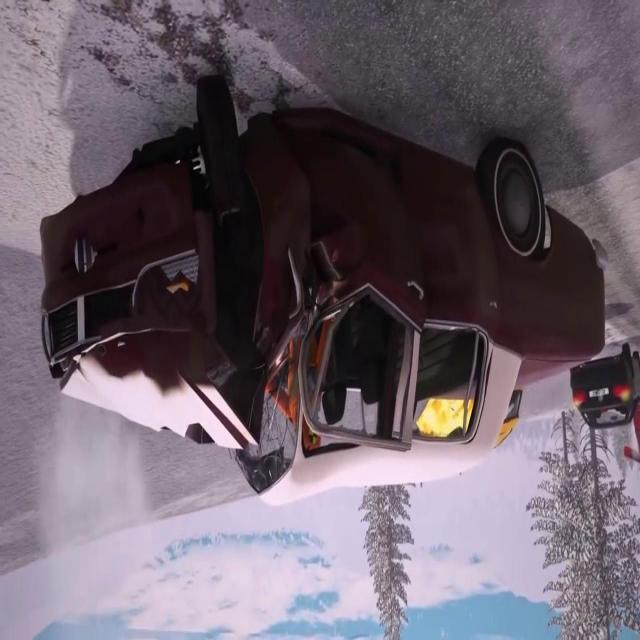severe: (30, 69, 612, 516)
